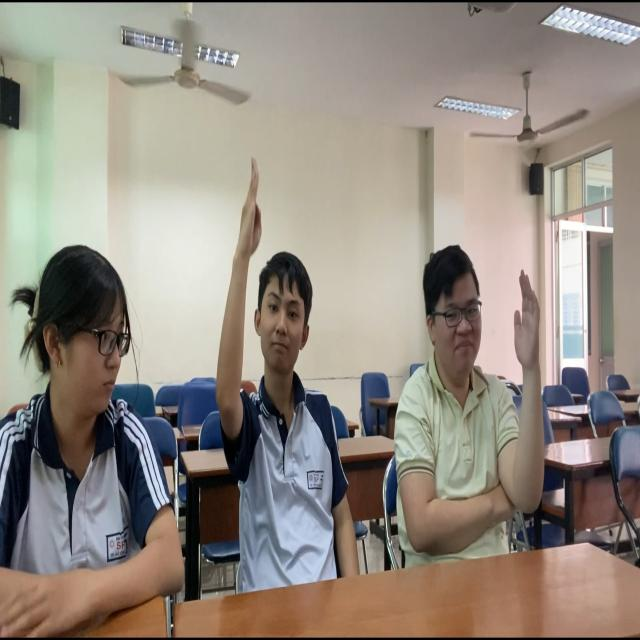raise_hand: (387, 245, 554, 536), (214, 151, 330, 560)
